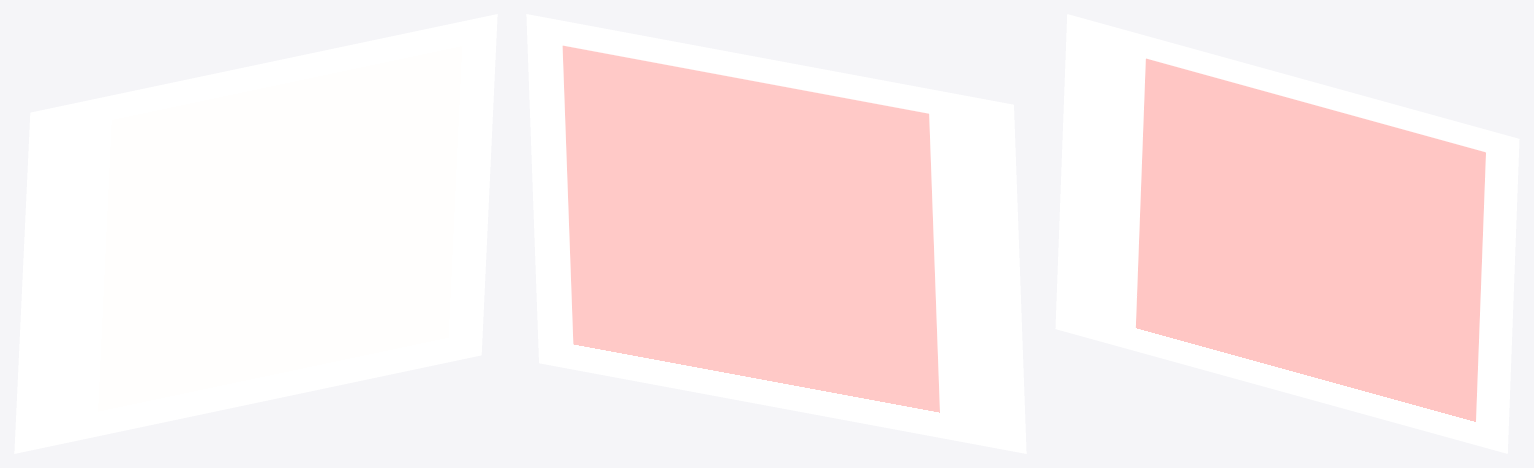
Rendered from sigmas_textured.glb.
3 renders of one model, left to right at view 1: azimuth 30°, elevation 25°; view 2: azimuth 150°, elevation 25°; view 3: azimuth 330°, elevation 25°, orthographic. The views are drawn at different scales.
Parts seen in each view (by area): view 1: Plane; view 2: Plane; view 3: Plane.
Part boxes in pixels (left/top/right/bottom): Plane: left=14, top=14, right=497, bottom=453; Plane: left=526, top=14, right=1026, bottom=453; Plane: left=1055, top=14, right=1519, bottom=453.
Size of the model in its own units: 0.1223 by 0.0864 by 0.00352.
Materials: 1 (1 with a texture image).
